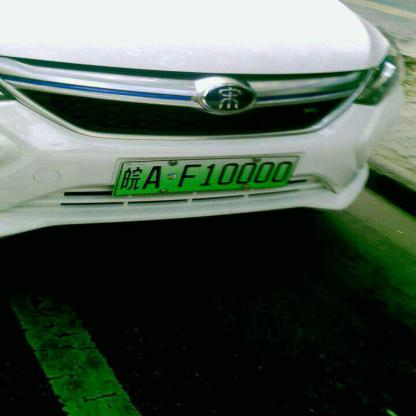lp: (115, 156, 296, 195)
